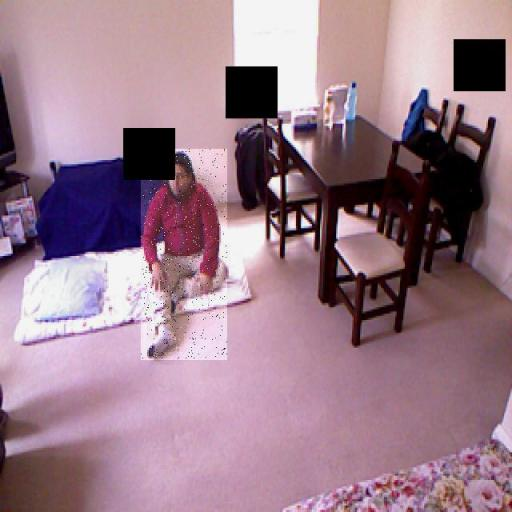Fall: (141, 150, 227, 361)
